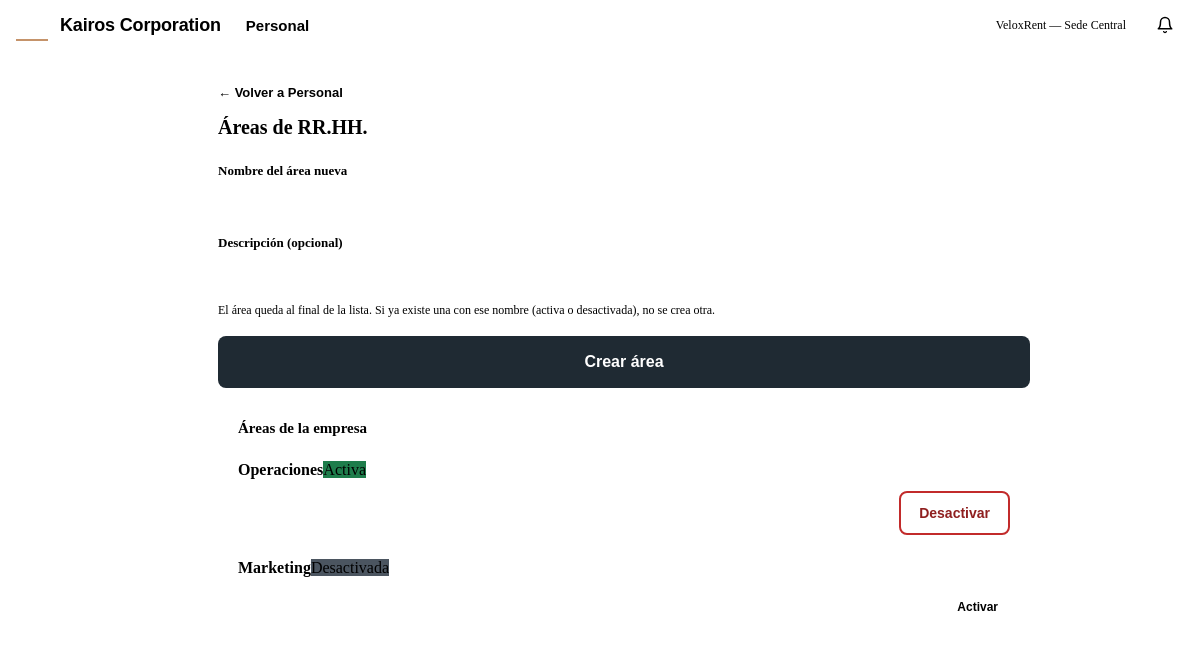
AreasScreen (gestión de áreas de RR.HH.) › valida el nombre vacío
The image size is (1190, 653).
Expected: the text "Operaciones" is shown, [238, 461, 323, 478]
Click the button "Crear área": (624, 362) [218, 336, 1030, 388]
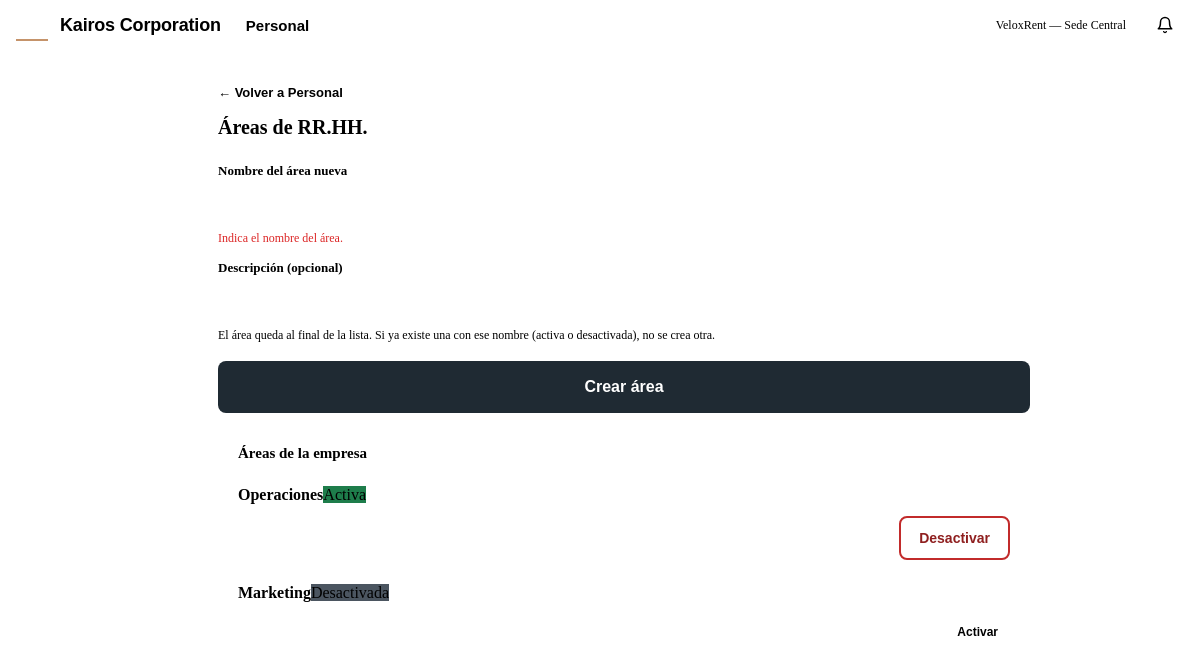
Now the text "Indica el nombre del área." is shown, box [218, 231, 343, 245]
